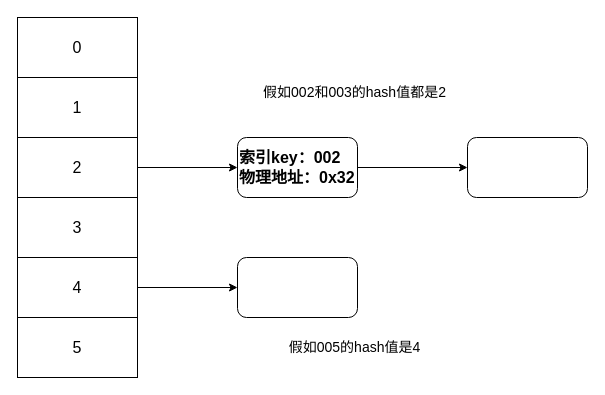
This 605x395 diagram has some shape labels left out. The centre of each missing label's shape, as x and y in pixels:
索引key：003 物理地址：0x35: (527,167)
索引key：005 物理地址：0x68: (297,287)
